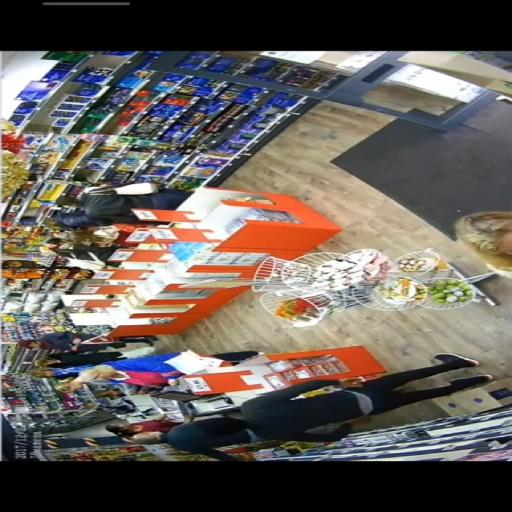workers: (53, 182, 159, 228), (36, 331, 166, 368), (65, 362, 183, 394), (37, 225, 125, 264)
